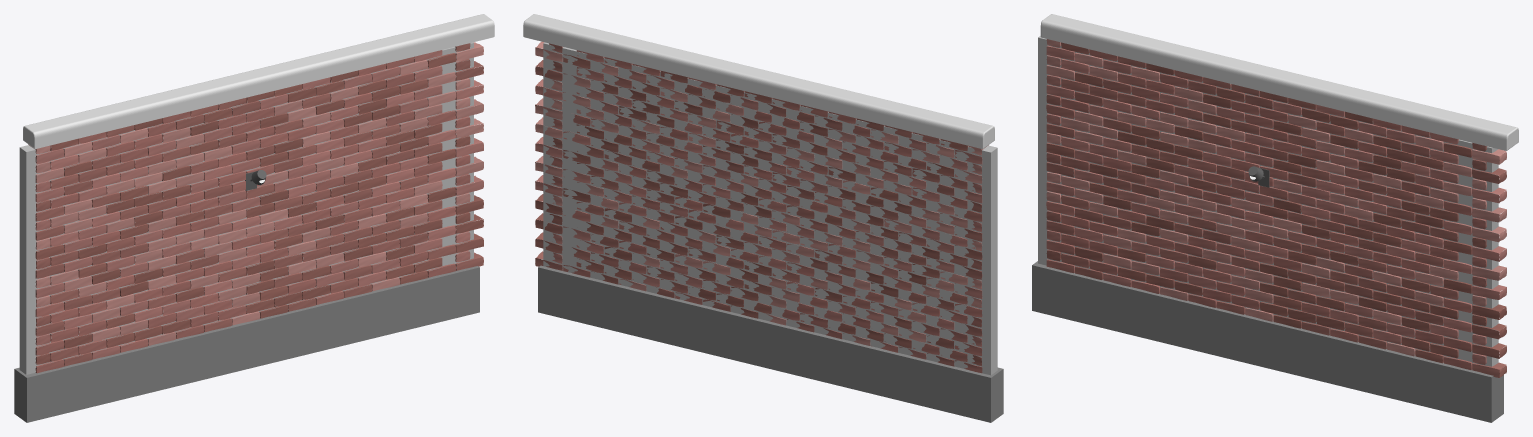
Rendered from build-a-brick-wall.gltf.
3 renders of one model, left to right at view 1: azimuth 30°, elevation 25°; view 2: azimuth 150°, elevation 25°; view 3: azimuth 330°, elevation 25°, orthographic.
Size of the model in its own units: 4.35 by 2.55 by 0.3666.
